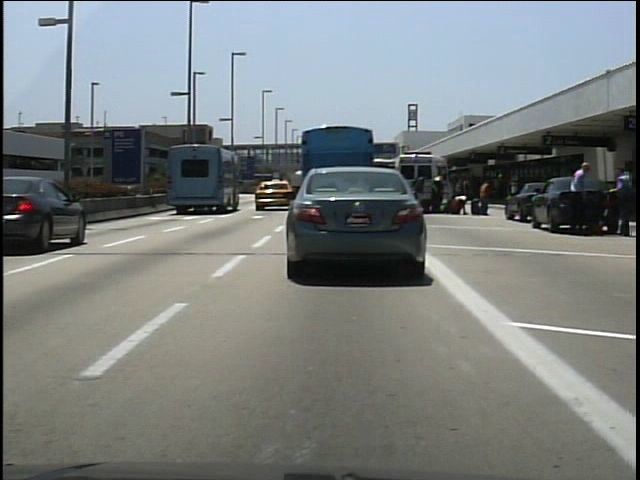person: (562, 157, 595, 239), (608, 162, 637, 240), (428, 172, 448, 217), (452, 173, 471, 219), (412, 171, 430, 219), (478, 178, 496, 219)
